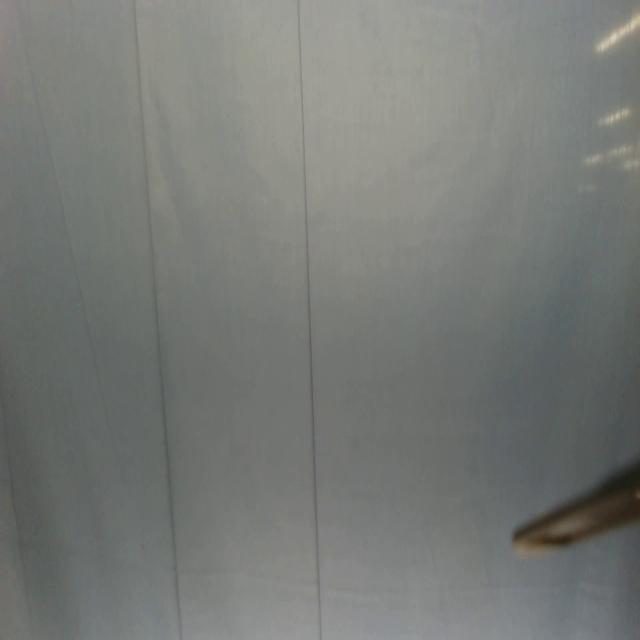crease: (15, 0, 111, 433), (129, 0, 185, 639), (294, 0, 324, 640), (0, 422, 31, 615)
